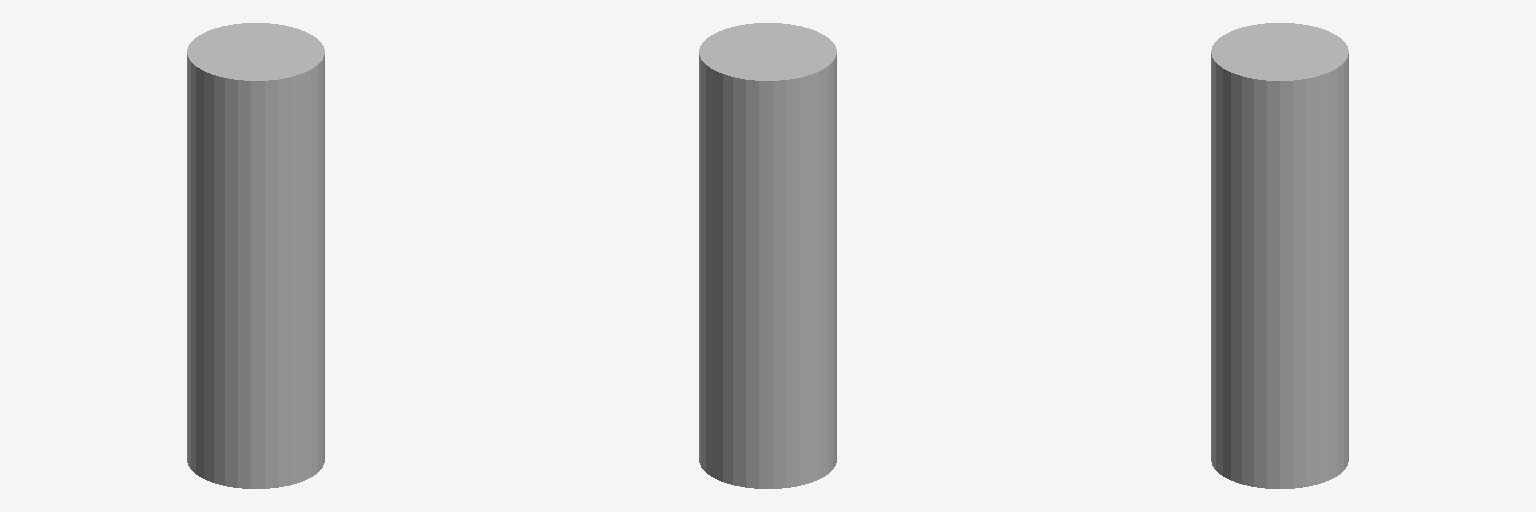
Rendered from hole_boolean.obj.
3 views of the same model, side by side, from view 1: azimuth 30°, elevation 25°; view 2: azimuth 150°, elevation 25°; view 3: azimuth 270°, elevation 25° (orthographic).
Visible parts, largest first — view 1: Cylinder_Cylinder.001; view 2: Cylinder_Cylinder.001; view 3: Cylinder_Cylinder.001.
Part boxes in pixels (bbox=[...]): Cylinder_Cylinder.001: bbox=[187, 23, 324, 488]; Cylinder_Cylinder.001: bbox=[699, 23, 836, 488]; Cylinder_Cylinder.001: bbox=[1211, 23, 1348, 488].
Bounding box in the file's own units: 0.003 × 0.0098 × 0.003.